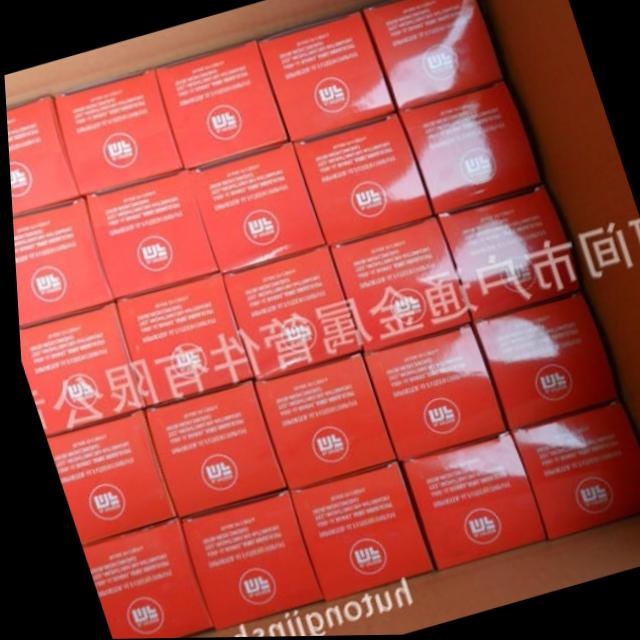box: (323, 215, 469, 355), (172, 489, 316, 630), (395, 432, 537, 571), (470, 295, 612, 433), (359, 326, 502, 463), (285, 464, 426, 602), (139, 384, 281, 520), (288, 115, 429, 248), (435, 189, 575, 322), (395, 83, 536, 215), (505, 403, 640, 540), (217, 249, 355, 383), (251, 356, 390, 489), (81, 169, 216, 303), (258, 12, 395, 144), (187, 144, 323, 276), (111, 276, 247, 407), (49, 67, 182, 197), (43, 410, 169, 547), (154, 40, 286, 170), (15, 304, 140, 438), (363, 0, 503, 115), (77, 521, 203, 639), (10, 198, 110, 325), (5, 96, 79, 217)
